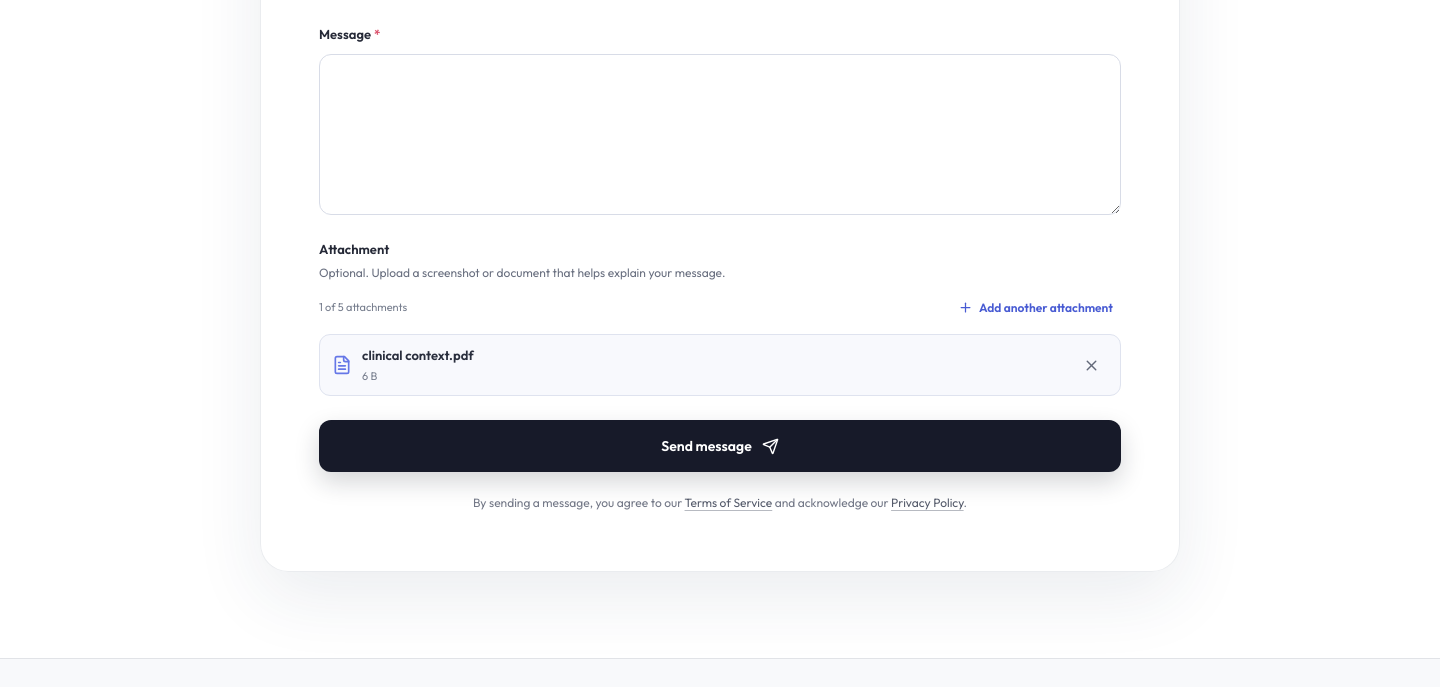
ContactPage › shows and removes a valid optional attachment
Earlier steps of the test are not shown.
(page scrolled)
Expected: the element with class "contact-attachment-selection" shows "clinical context.pdf", top-left (362, 347), bottom-right (474, 363)
Expected: the element with class "contact-attachment-selection" shows "6 B", top-left (362, 369), bottom-right (377, 383)
Click the button named "Remove clinical context.pdf" at [1091, 365], box top-left (1074, 348), bottom-right (1108, 382)
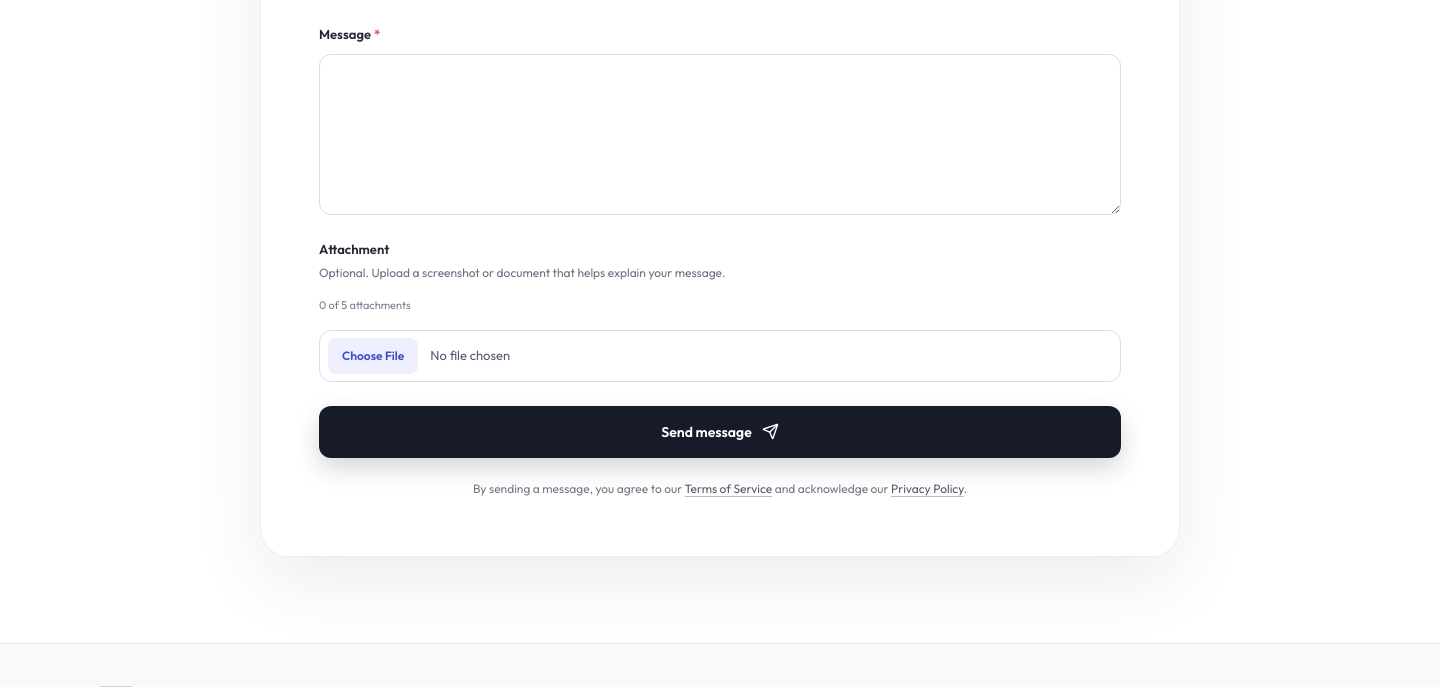
Expected: the element with class "contact-attachment-selection" is gone
Expected: the text "0 of 5 attachments" is shown, top-left (319, 297), bottom-right (411, 315)
